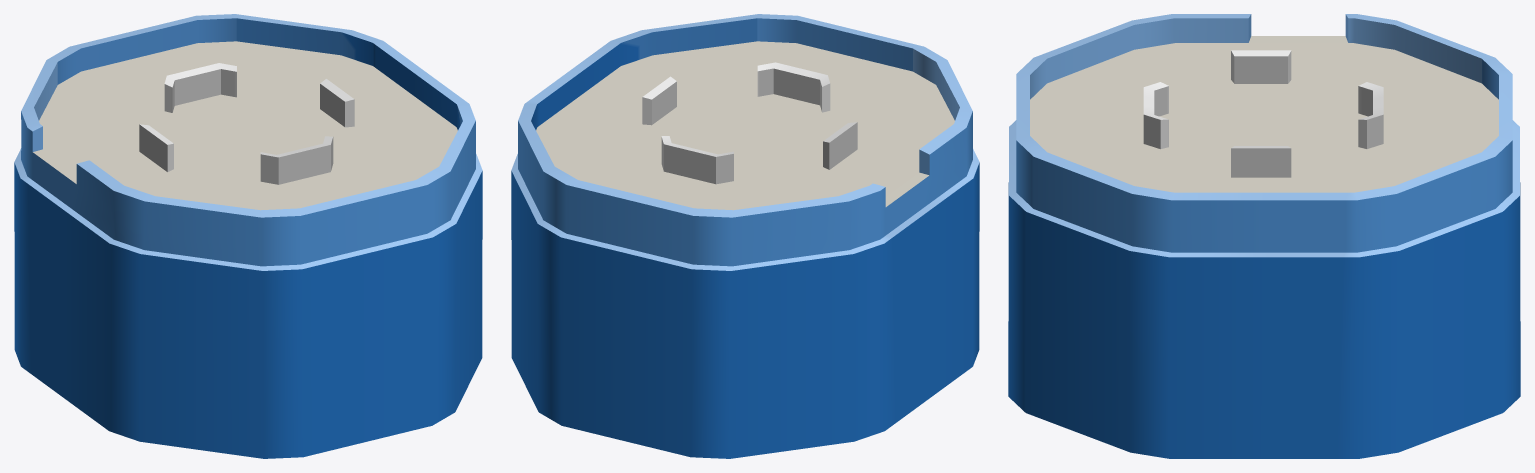
Rendered from map2.fbx.
The picture shows the model from 3 angles, left to right: view 1: azimuth 30°, elevation 25°; view 2: azimuth 150°, elevation 25°; view 3: azimuth 270°, elevation 25°; orthographic projection. The views are drawn at different scales.
Visible parts, largest first — view 1: polySurface19, polySurface17, polySurface20, polySurface21, polySurface18; view 2: polySurface19, polySurface20, polySurface17, polySurface21, polySurface18; view 3: polySurface19, polySurface18, polySurface21, polySurface20, polySurface17.
Boxes of the visible parts, x1,y1,x2,y2 form: polySurface19: [14, 14, 482, 458]; polySurface17: [164, 63, 236, 112]; polySurface20: [260, 136, 333, 184]; polySurface21: [320, 79, 354, 127]; polySurface18: [139, 124, 173, 171]; polySurface19: [511, 14, 979, 458]; polySurface20: [757, 62, 830, 112]; polySurface17: [661, 136, 733, 184]; polySurface21: [642, 76, 676, 125]; polySurface18: [823, 122, 857, 169]; polySurface19: [1008, 14, 1520, 458]; polySurface18: [1231, 50, 1291, 83]; polySurface21: [1231, 146, 1291, 177]; polySurface20: [1143, 82, 1168, 149]; polySurface17: [1358, 82, 1383, 148].
Bounding box in the file's own units: 32.78 × 20.85 × 36.92.
